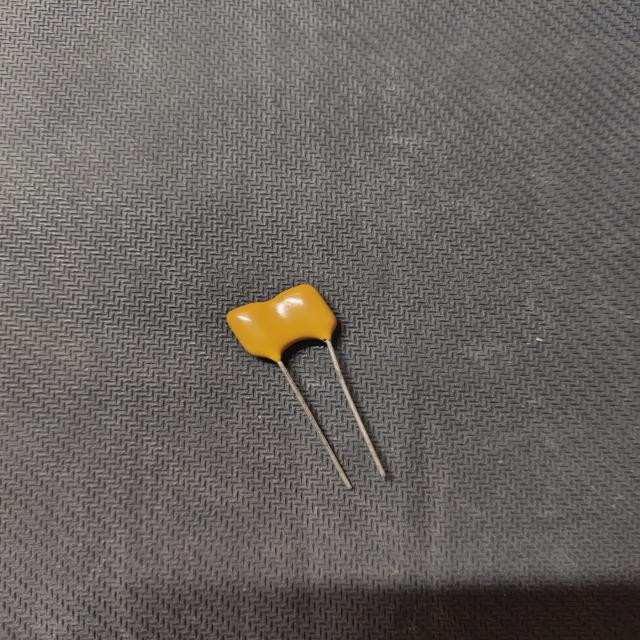resistor: (221, 264, 406, 498)
